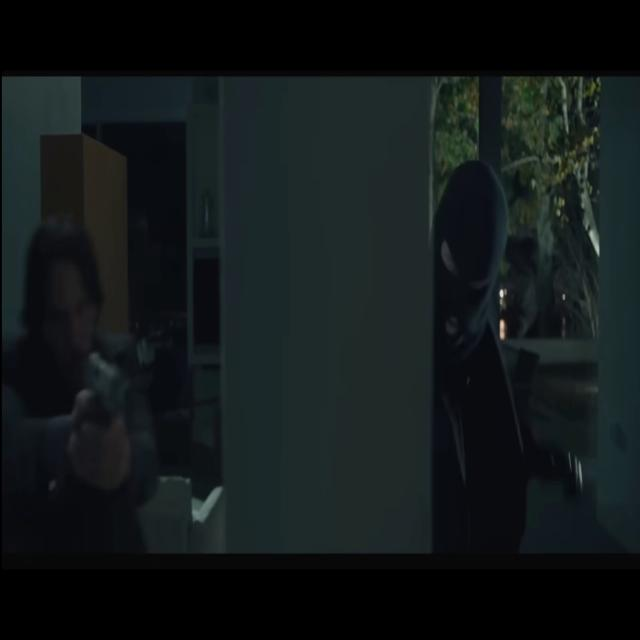weapons: (74, 326, 139, 504)
